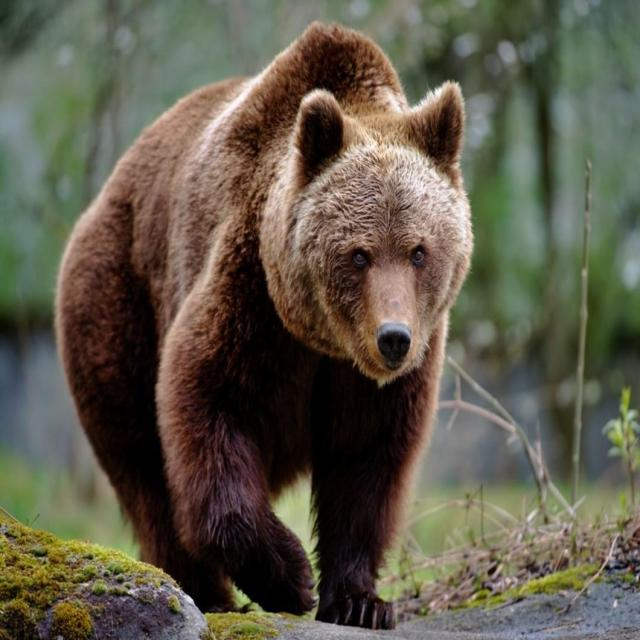Bear: (54, 22, 475, 632)
